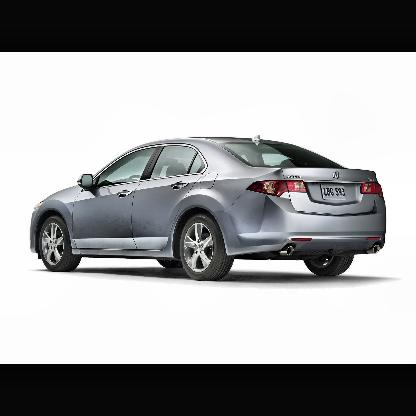Acura RL Sedan 2012: (29, 136, 388, 281)
